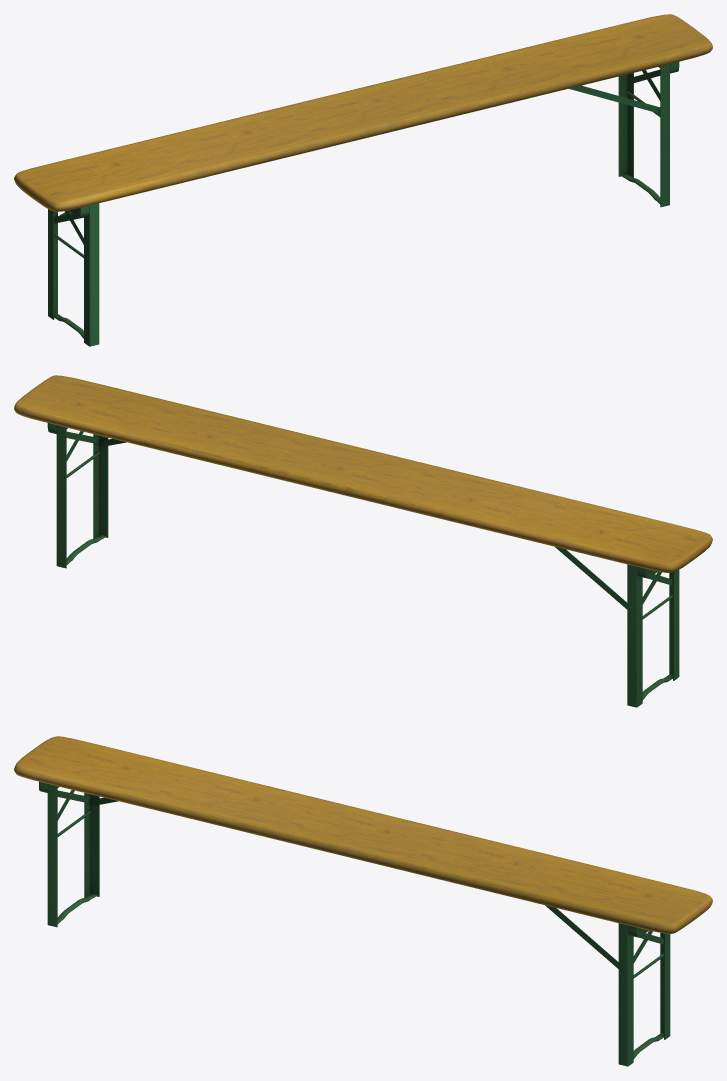
File: bagni_natural_laquered_metal.glb
3 views of the same model, one above another, from view 1: azimuth 30°, elevation 25°; view 2: azimuth 150°, elevation 25°; view 3: azimuth 330°, elevation 25° (orthographic).
Parts seen in each view (by area): view 1: bagni-natural; view 2: bagni-natural; view 3: bagni-natural.
Part boxes in pixels (left/top/right/bottom): bagni-natural: left=14, top=14, right=712, bottom=346; bagni-natural: left=14, top=375, right=712, bottom=707; bagni-natural: left=14, top=736, right=712, bottom=1066.
Size of the model in its own units: 2.21 by 0.4796 by 0.2646.
1 material, 1 textured.
